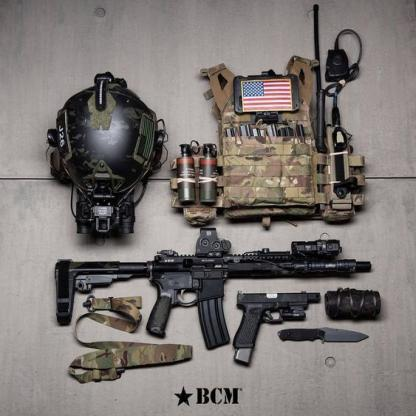Grenade: (176, 137, 201, 204), (198, 141, 220, 206)
Gun: (55, 224, 373, 352)
Knife: (277, 325, 371, 348)
Pistol: (231, 289, 325, 368)
